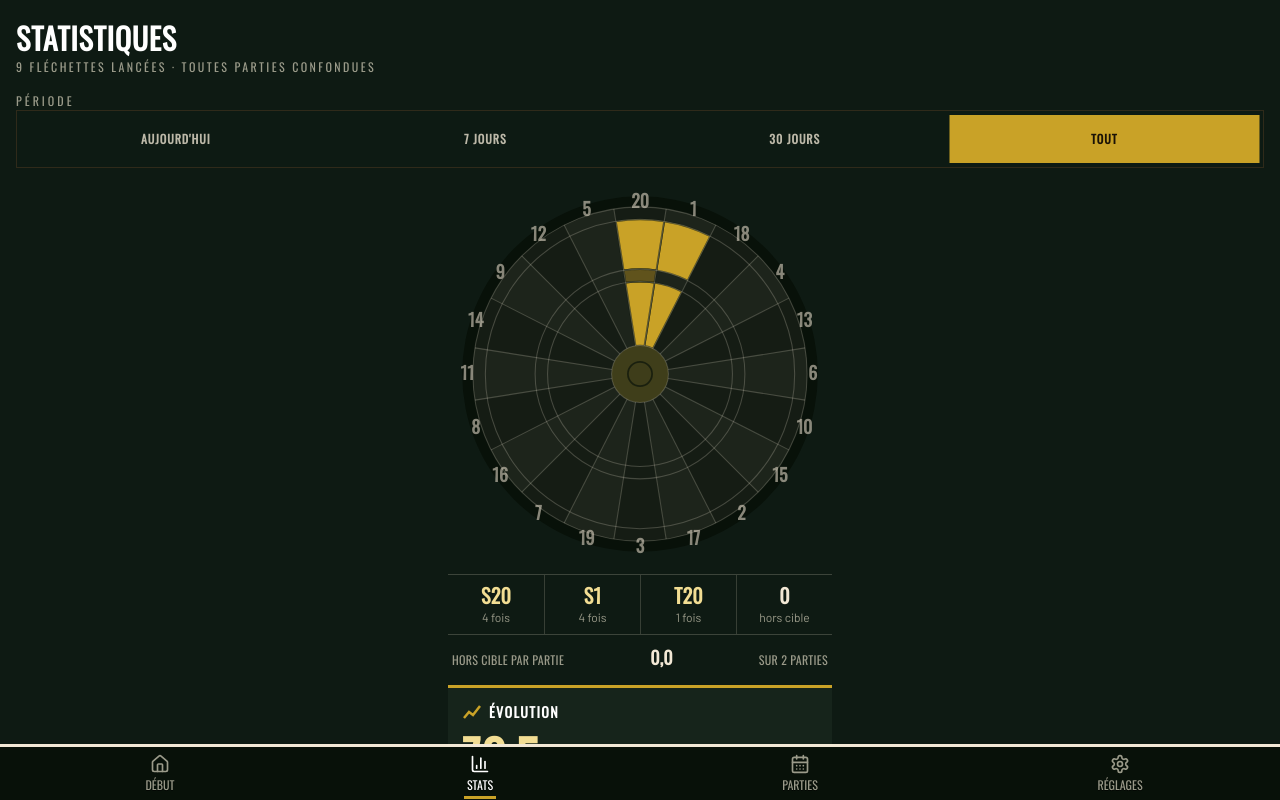
Évolution — la carte et ses états › le dernier point de Moyenne est la carte Moyenne du podium, sur une période d’une partie
Click the button "Aujourd'hui".
click(176, 139)  # box top-left (21, 115), bottom-right (330, 163)
(page scrolled)
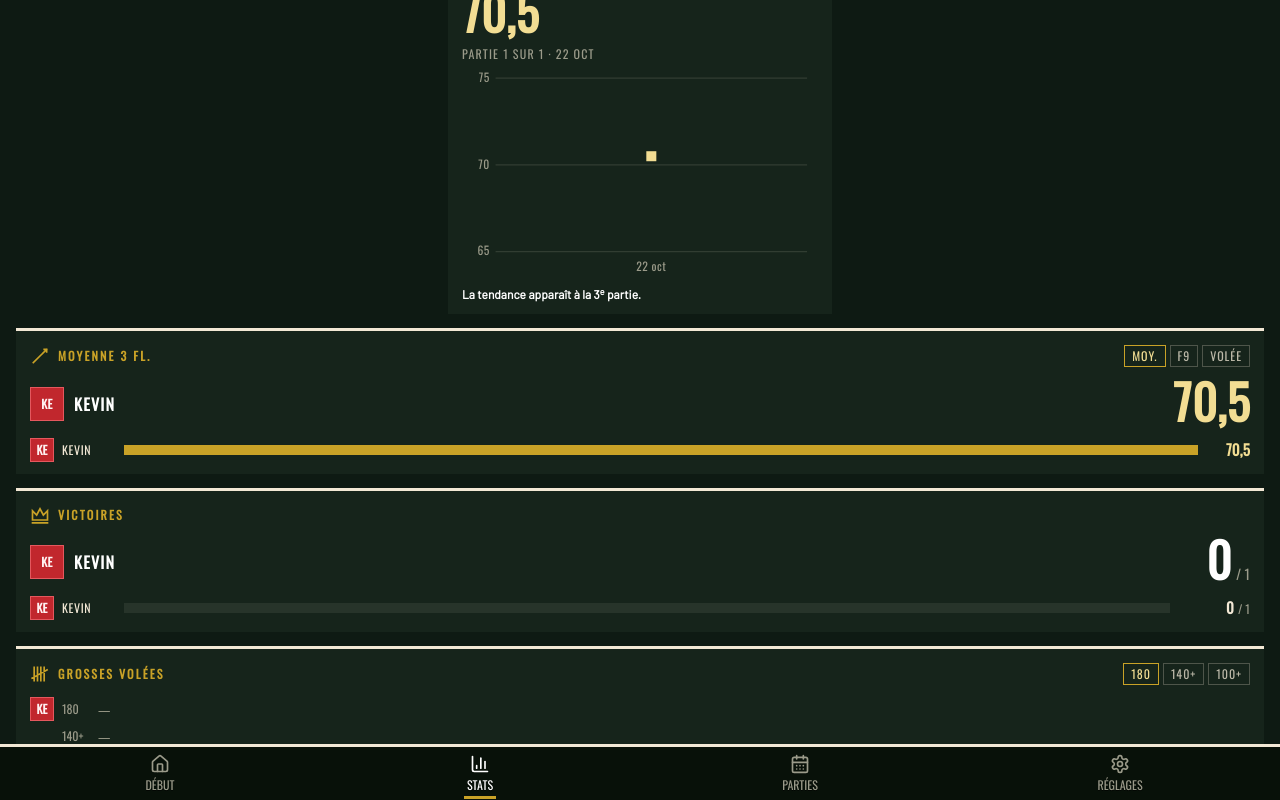
Now the 2nd text "70,5" is shown, box top-left (1173, 365), bottom-right (1250, 436)
